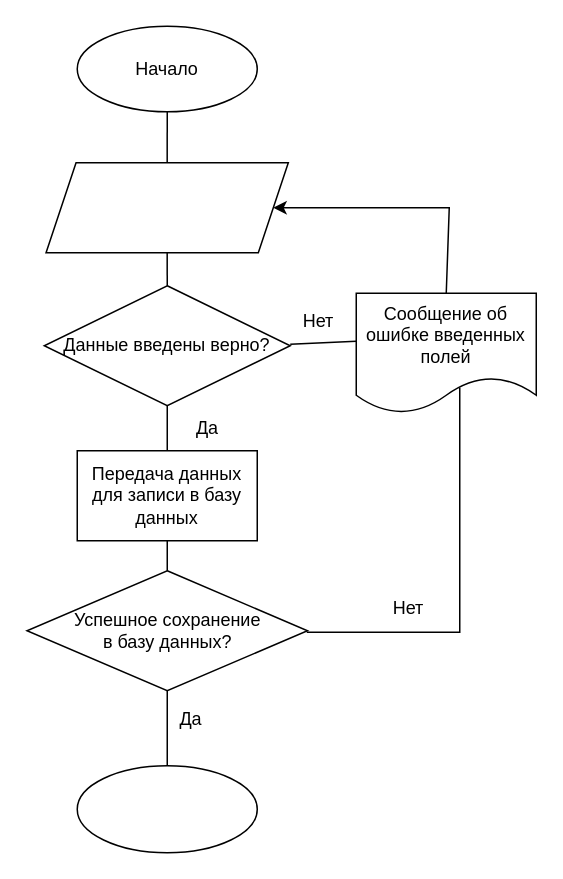
Image size: 563x879. Some labels were removed from this diagram. The shapes that lost their labels are listed below. From the top down, each one's box as (x1, y1, x2, y2) in pixels, then its label:
(45, 161, 288, 253): Ввод название нового департамента
(76, 764, 257, 853): Конец
